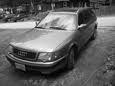car: (4, 9, 98, 76)
